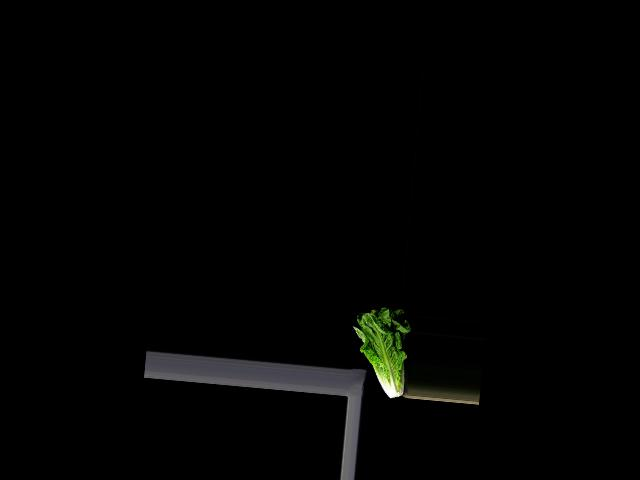lettuce: (347, 303, 413, 400)
